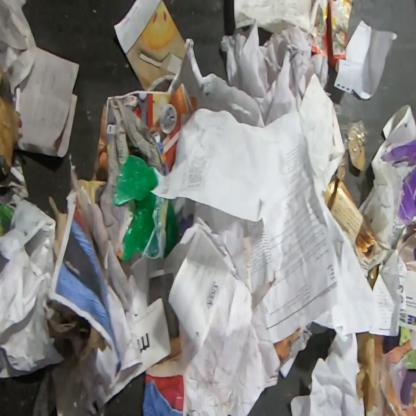cardboard: (324, 171, 378, 263), (354, 331, 385, 415), (0, 94, 21, 169), (395, 221, 415, 273), (355, 145, 366, 173)
soft_plastic: (112, 154, 178, 262), (337, 118, 369, 181)
